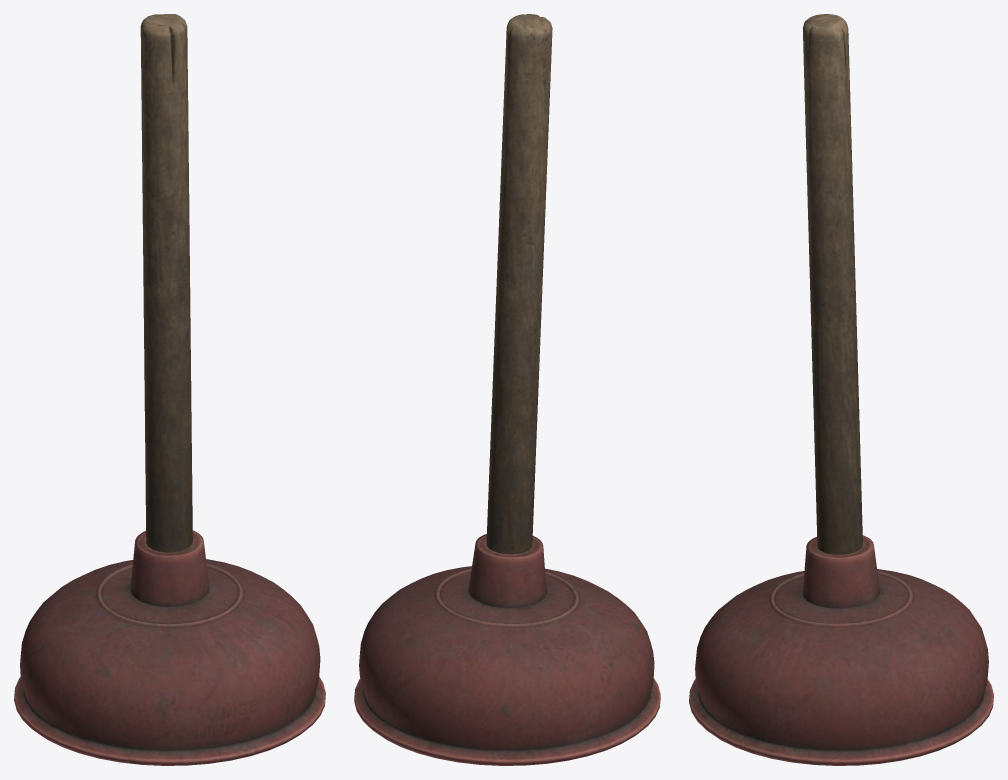
Rendered from plunger.glb.
The picture shows the model from 3 angles, left to right: view 1: azimuth 30°, elevation 25°; view 2: azimuth 150°, elevation 25°; view 3: azimuth 270°, elevation 25°; orthographic projection. The views are drawn at different scales.
Parts seen in each view (by area): view 1: plunger; view 2: plunger; view 3: plunger.
Part boxes in pixels (x1=…): plunger: x1=14, y1=14, x2=325, y2=765; plunger: x1=354, y1=14, x2=660, y2=765; plunger: x1=689, y1=14, x2=993, y2=765.
Bounding box in the file's own units: 0.1721 × 0.4211 × 0.1721.
Materials: 1 (1 with a texture image).
